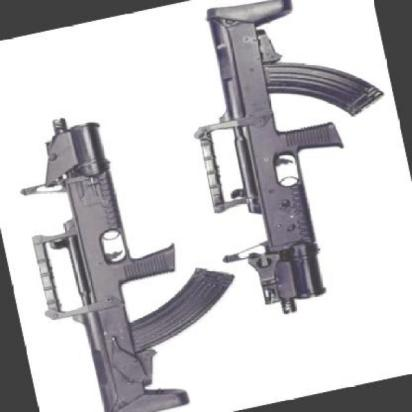Gun: (33, 108, 232, 412), (199, 0, 381, 317)
